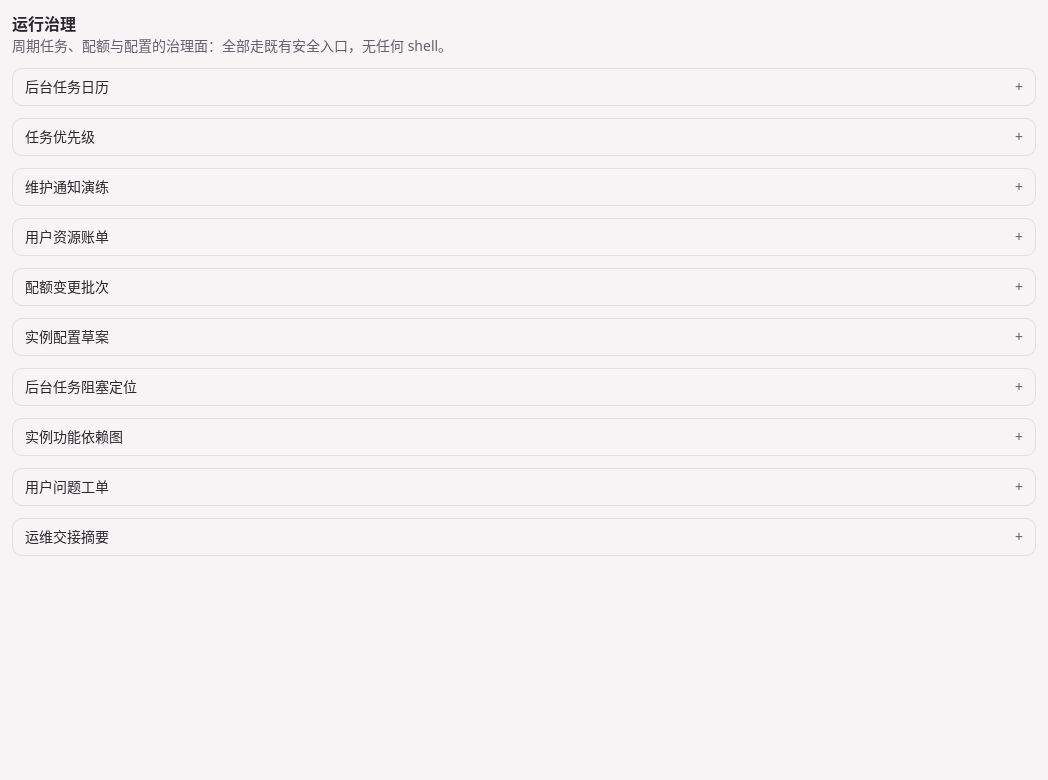
it: NEW-371..380 运行治理中心（Web 入口） › 交接摘要：生成展示未完成项与脱敏声明；确认后导出成功
Click the button "运维交接摘要 +". click: x=67, y=536
box: [13,519,1035,555]
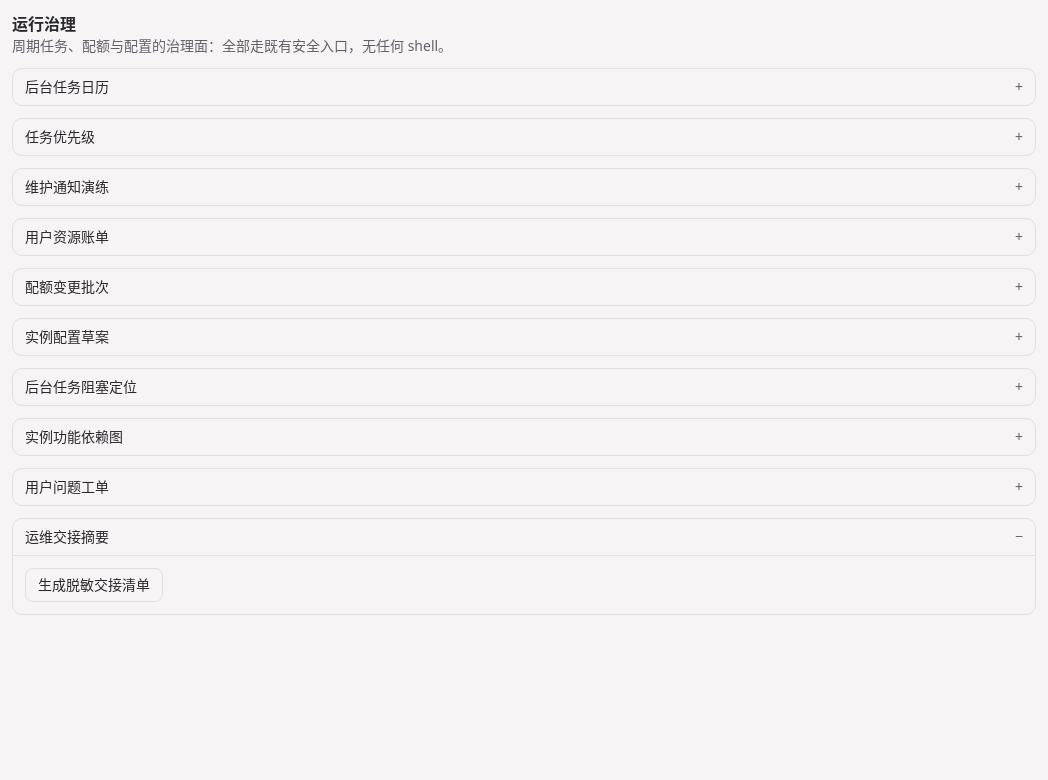
Click the button "生成脱敏交接清单". click: x=94, y=585
box: [25,568,163,602]
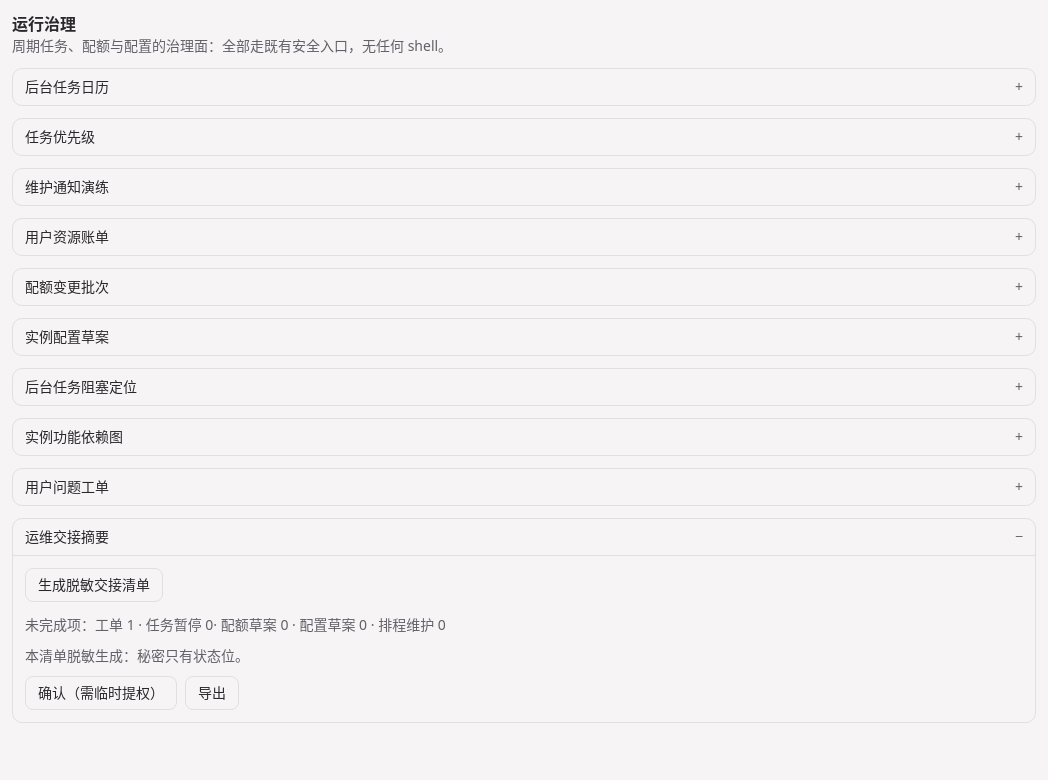
Check: the text "未完成项：工单 1 · 任务暂停 0· 配额草案 0 · 配置草案 0 · 排程维护 0" is shown, box [25,615,446,634]
Check: the text "本清单脱敏生成：秘密只有状态位。" is shown, box [25,646,249,665]
Click the button "确认（需临时提权）". click: x=101, y=692
box: [25,676,177,710]
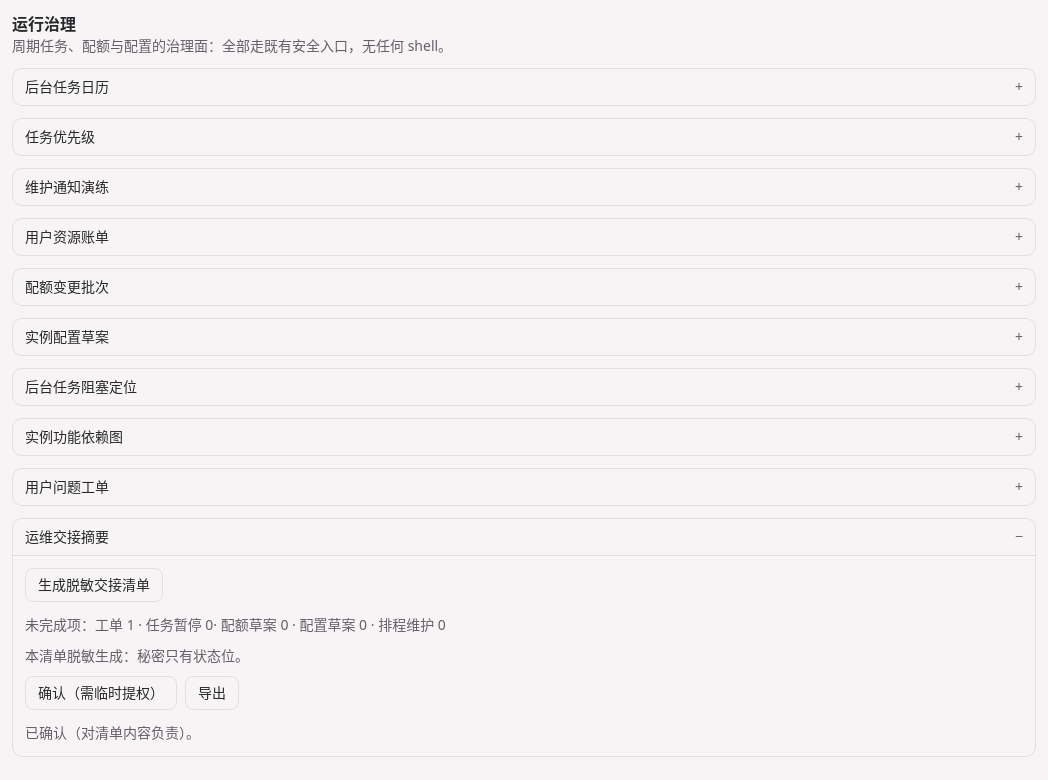
Check: the text "已确认（对清单内容负责）。" is shown, box [25,722,200,742]
Click the button "导出". click: x=212, y=692
box: [185,676,239,710]
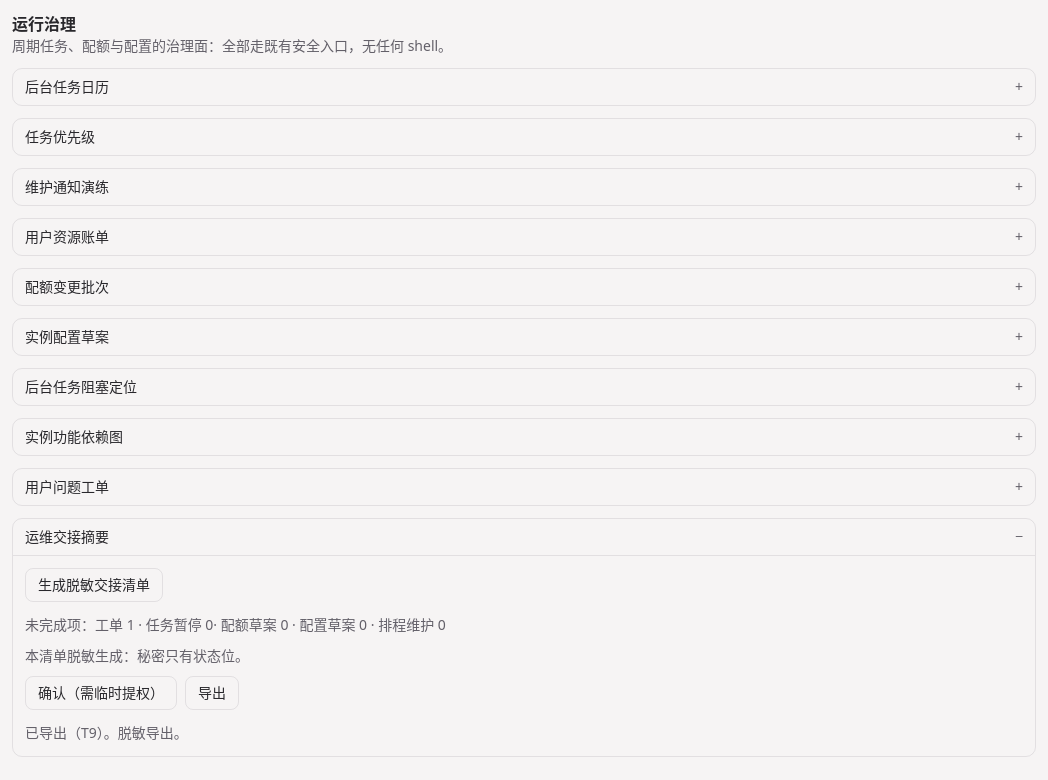
Check: the text "已导出（T9）。脱敏导出。" is shown, box [25,722,188,742]
